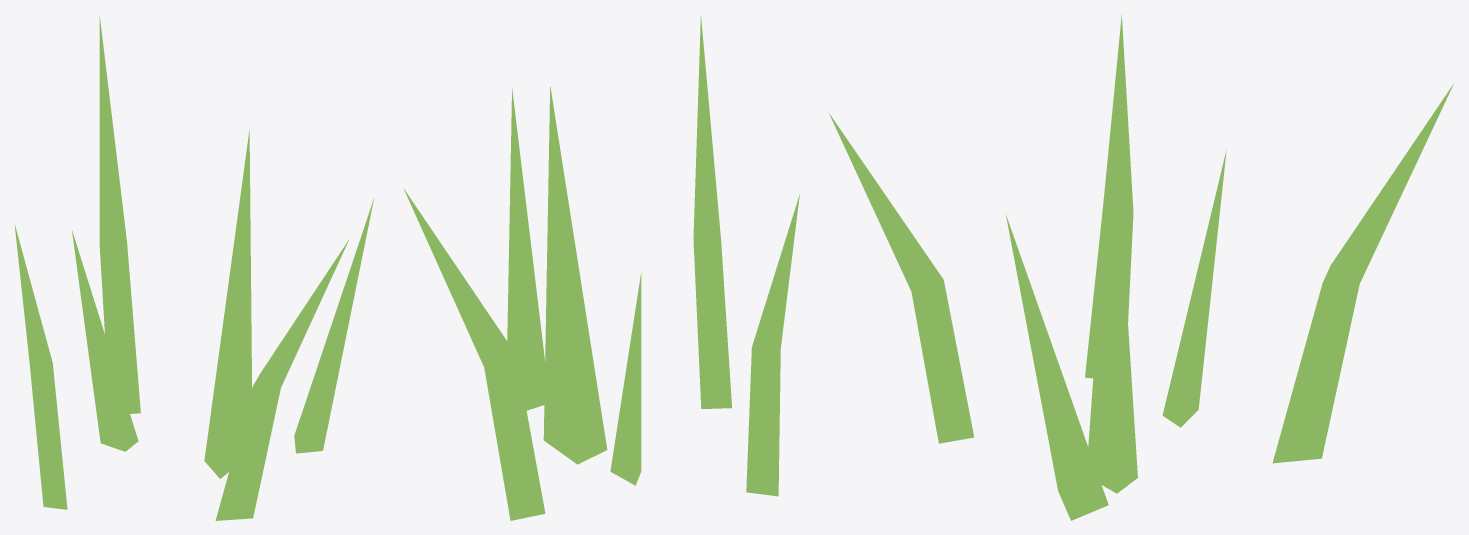
File: Grass3D_a_05.fbx
The picture shows the model from 3 angles, left to right: view 1: azimuth 30°, elevation 25°; view 2: azimuth 150°, elevation 25°; view 3: azimuth 270°, elevation 25°; orthographic projection. The views are drawn at different scales.
Parts seen in each view (by area): view 1: Grass3D_a_05; view 2: Grass3D_a_05; view 3: Grass3D_a_05.
Part boxes in pixels (x1=…): Grass3D_a_05: x1=14, y1=16, x2=374, y2=520; Grass3D_a_05: x1=403, y1=16, x2=799, y2=520; Grass3D_a_05: x1=828, y1=14, x2=1453, y2=520.
Size of the model in its own units: 0.4922 by 0.5203 by 0.715.
